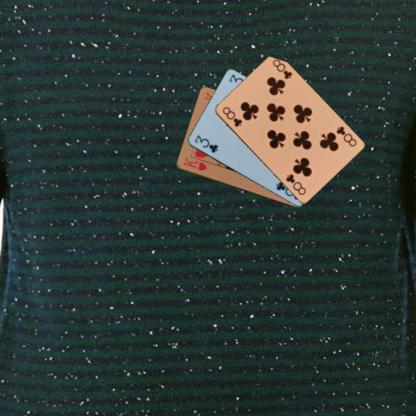3c: (192, 132, 219, 154)
8c: (333, 124, 358, 148), (220, 104, 243, 128)
Kh: (181, 155, 208, 172)
